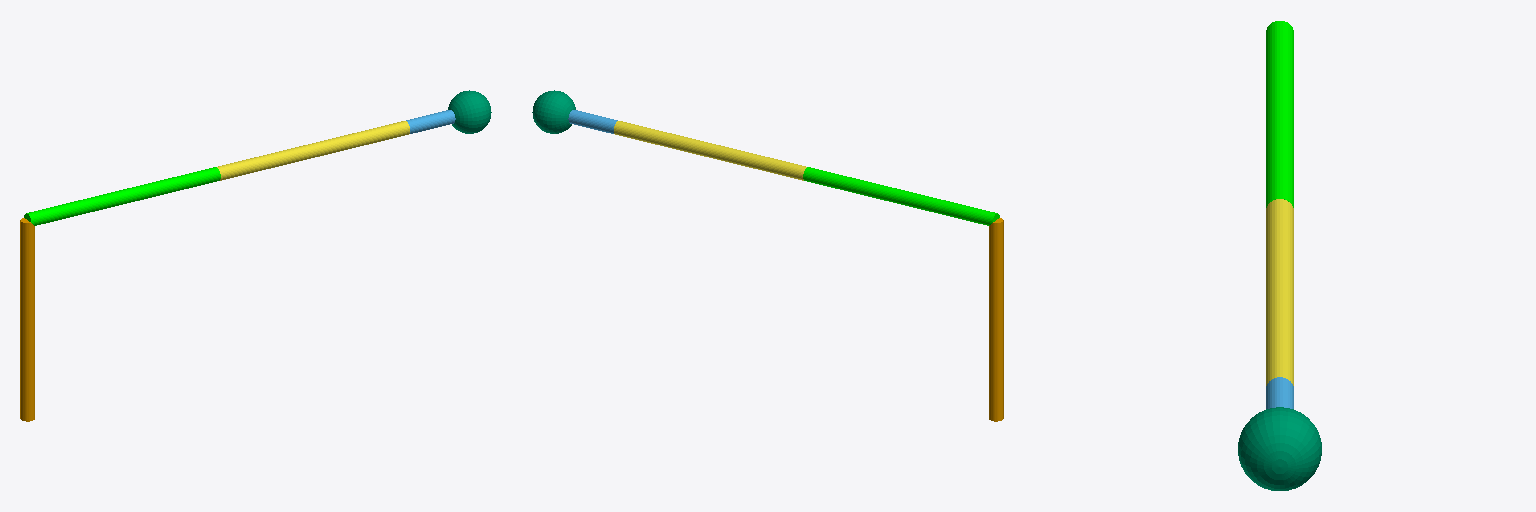
robot.urdf — endo:
<?xml version="1.0"?>
<robot name="endo">
    <link name="base_link">
        <visual>
            <geometry>
                <cylinder length="0.3" radius="0.01"/>
            </geometry>
            <origin xyz="0 0 0.15" rpy="0 0 0"/>
        </visual>
    </link>
    <link name="link1" />
    <link name="link2">
        <visual>
            <geometry>
                <cylinder length="0.3" radius="0.01"/>
            </geometry>
            <origin xyz="0.15 0 0" rpy="0 1.57 0"/>
            <material name="green">
                <color rgba="0 1 0 1"/>
            </material>
        </visual>
    </link>
    <link name="link3">
        <visual>
            <geometry>
                <cylinder length="0.3" radius="0.01"/>
            </geometry>
            <origin xyz="0 0 0.15" rpy="0 0 0"/>
        </visual>
    </link>
    <link name="link4" />
    <link name="link5" />
    <link name="link6" />
    <link name="link7" />
    <link name="link8" />
    <link name="link9">
        <visual>
            <geometry>
                <cylinder length="0.1" radius="0.01"/>
            </geometry>
            <origin xyz="0 0 0.05" rpy="0 0 0"/>
        </visual>
    </link>
    <link name="tip_link">
        <visual>
            <geometry>
                <sphere radius="0.03"/>
            </geometry>
        </visual>
    </link>
    <joint name="shoulder_lift_joint" type="prismatic">
        <parent link="base_link"/>
        <child link="link1"/>
        <origin xyz="0 0 0.3" rpy="0 0 0"/>
        <axis xyz="0 0 1"/>
        <limit lower="0" upper="1.0" effort="100" velocity="0.5"/>
    </joint>
    <joint name="shoulder_pan_joint" type="revolute">
        <parent link="link1"/>
        <child link="link2"/>
        <origin xyz="0 0 0" rpy="0 0 0"/>
        <axis xyz="0 0 1"/>
        <limit lower="-1.5" upper="1.5" effort="100" velocity="0.5"/>
    </joint>
    <joint name="elbow_joint" type="revolute">
        <parent link="link2"/>
        <child link="link3"/>
        <origin xyz="0.3 0 0" rpy="0 1.57 0"/>
        <axis xyz="0 1 0"/>
        <limit lower="-0.5" upper="0.5" effort="100" velocity="0.5"/>
    </joint>
    <joint name="wrist_1_joint" type="revolute">
        <parent link="link3"/>
        <child link="link4"/>
        <origin xyz="0 0 0.3" rpy="0 0 0"/>
        <axis xyz="0 1 0"/>
        <limit lower="-1.5" upper="1.5" effort="100" velocity="0.5"/>
    </joint>
    <joint name="wrist_2_joint" type="revolute">
        <parent link="link4"/>
        <child link="link5"/>
        <origin xyz="0 0 0" rpy="0 0 0"/>
        <axis xyz="0 0 1"/>
        <limit lower="-1.5" upper="1.5" effort="100" velocity="0.5"/>
    </joint>
    <joint name="wrist_3_joint" type="revolute">
        <parent link="link5"/>
        <child link="link6"/>
        <origin xyz="0 0 0" rpy="0 0 0"/>
        <axis xyz="1 0 0"/>
        <limit lower="-1.5" upper="1.5" effort="100" velocity="0.5"/>
    </joint>
    <joint name="endo_first_joint" type="prismatic">
        <parent link="link6"/>
        <child link="link7"/>
        <origin xyz="0 0 0" rpy="0 0 0"/>
        <axis xyz="0 0 1"/>
        <limit lower="0" upper="0.5" effort="100" velocity="0.5"/>
    </joint>
    <joint name="endo_second_joint_first_dof" type="revolute">
        <parent link="link7"/>
        <child link="link8"/>
        <origin xyz="0 0 0" rpy="0 0 0"/>
        <axis xyz="0 0 1"/>
        <limit lower="-1.5" upper="1.5" effort="100" velocity="0.5"/>
    </joint>
    <joint name="endo_second_joint_second_dof" type="revolute">
        <parent link="link8"/>
        <child link="link9"/>
        <origin xyz="0 0 0" rpy="0 0 0"/>
        <axis xyz="0 1 0"/>
        <limit lower="-1.5" upper="1.5" effort="100" velocity="0.5"/>
    </joint>
    <joint name="tip" type="fixed">
        <parent link="link9"/>
        <child link="tip_link"/>
        <origin xyz="0 0 0.1" rpy="0 0 0"/>
    </joint>
</robot>

--- Render facts (derived) ---
The picture shows the robot from 3 angles, left to right: view 1: azimuth 30°, elevation 25°; view 2: azimuth 150°, elevation 25°; view 3: azimuth 270°, elevation 25°; orthographic projection.
Robot: endo — 11 links, 10 joints (7 revolute, 2 prismatic, 1 fixed); root link base_link; default pose: every joint at zero.
Visible links, largest first — view 1: base_link, link2, link3, tip_link, link9; view 2: base_link, link2, link3, tip_link, link9; view 3: tip_link, link2, link3, link9.
Link boxes in pixels (box(x1,y1,x2,y2)): base_link: box(20, 218, 34, 421); link2: box(24, 167, 220, 225); link3: box(217, 121, 409, 180); tip_link: box(448, 90, 491, 133); link9: box(406, 110, 455, 133); base_link: box(989, 218, 1003, 421); link2: box(803, 167, 999, 225); link3: box(614, 121, 806, 180); tip_link: box(532, 90, 575, 133); link9: box(568, 110, 617, 133); tip_link: box(1238, 407, 1321, 490); link2: box(1266, 21, 1293, 207); link3: box(1266, 199, 1293, 385); link9: box(1266, 377, 1293, 408).
Bounding box of the posed robot: 0.74 × 0.06 × 0.3303 m (x, y, z).
Geometry: primitives only (box / cylinder / sphere), no mesh files.